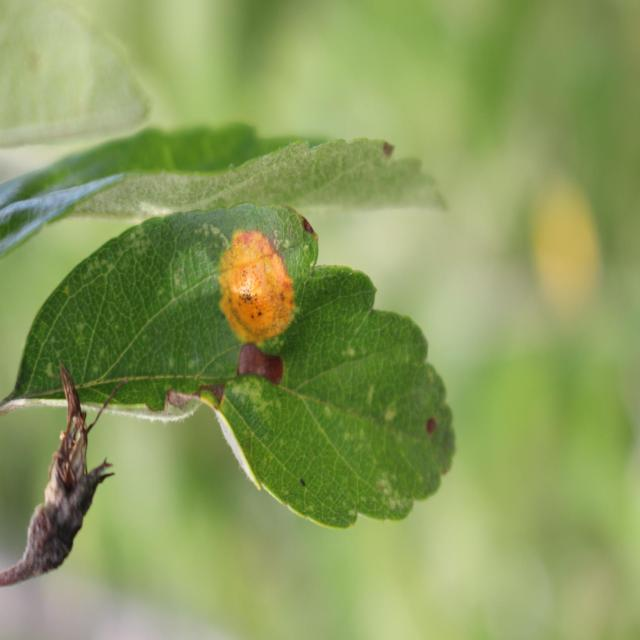Black Rot: (231, 338, 296, 390)
Rust: (215, 225, 303, 349)
